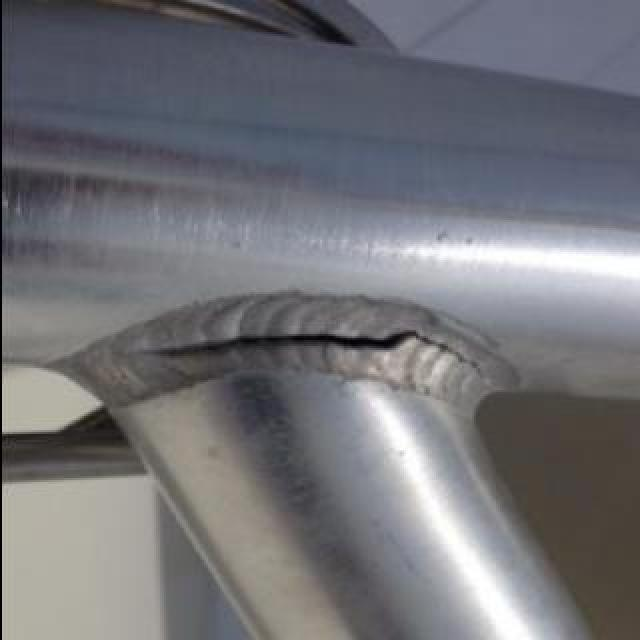crack: (118, 323, 500, 389)
